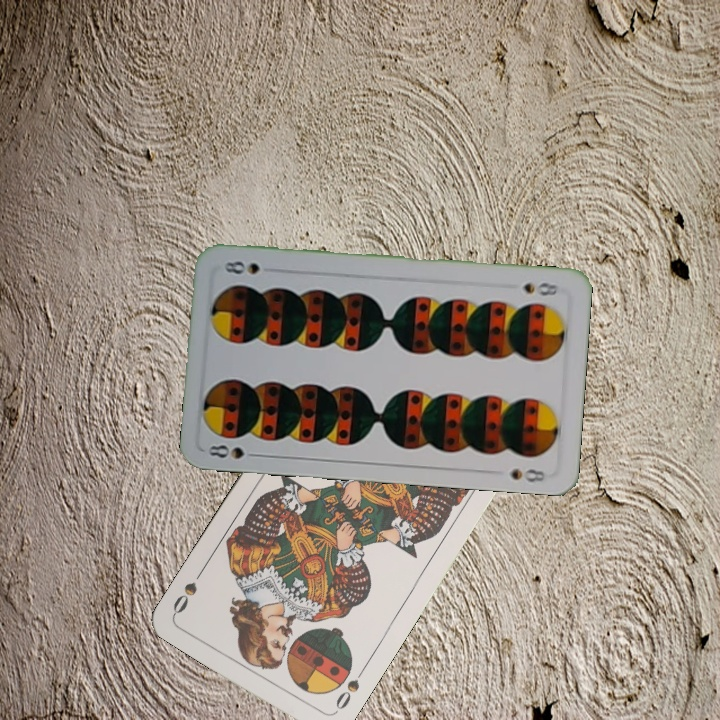S8: (204, 441, 263, 461), (519, 278, 562, 299)
SO: (329, 675, 363, 717)
